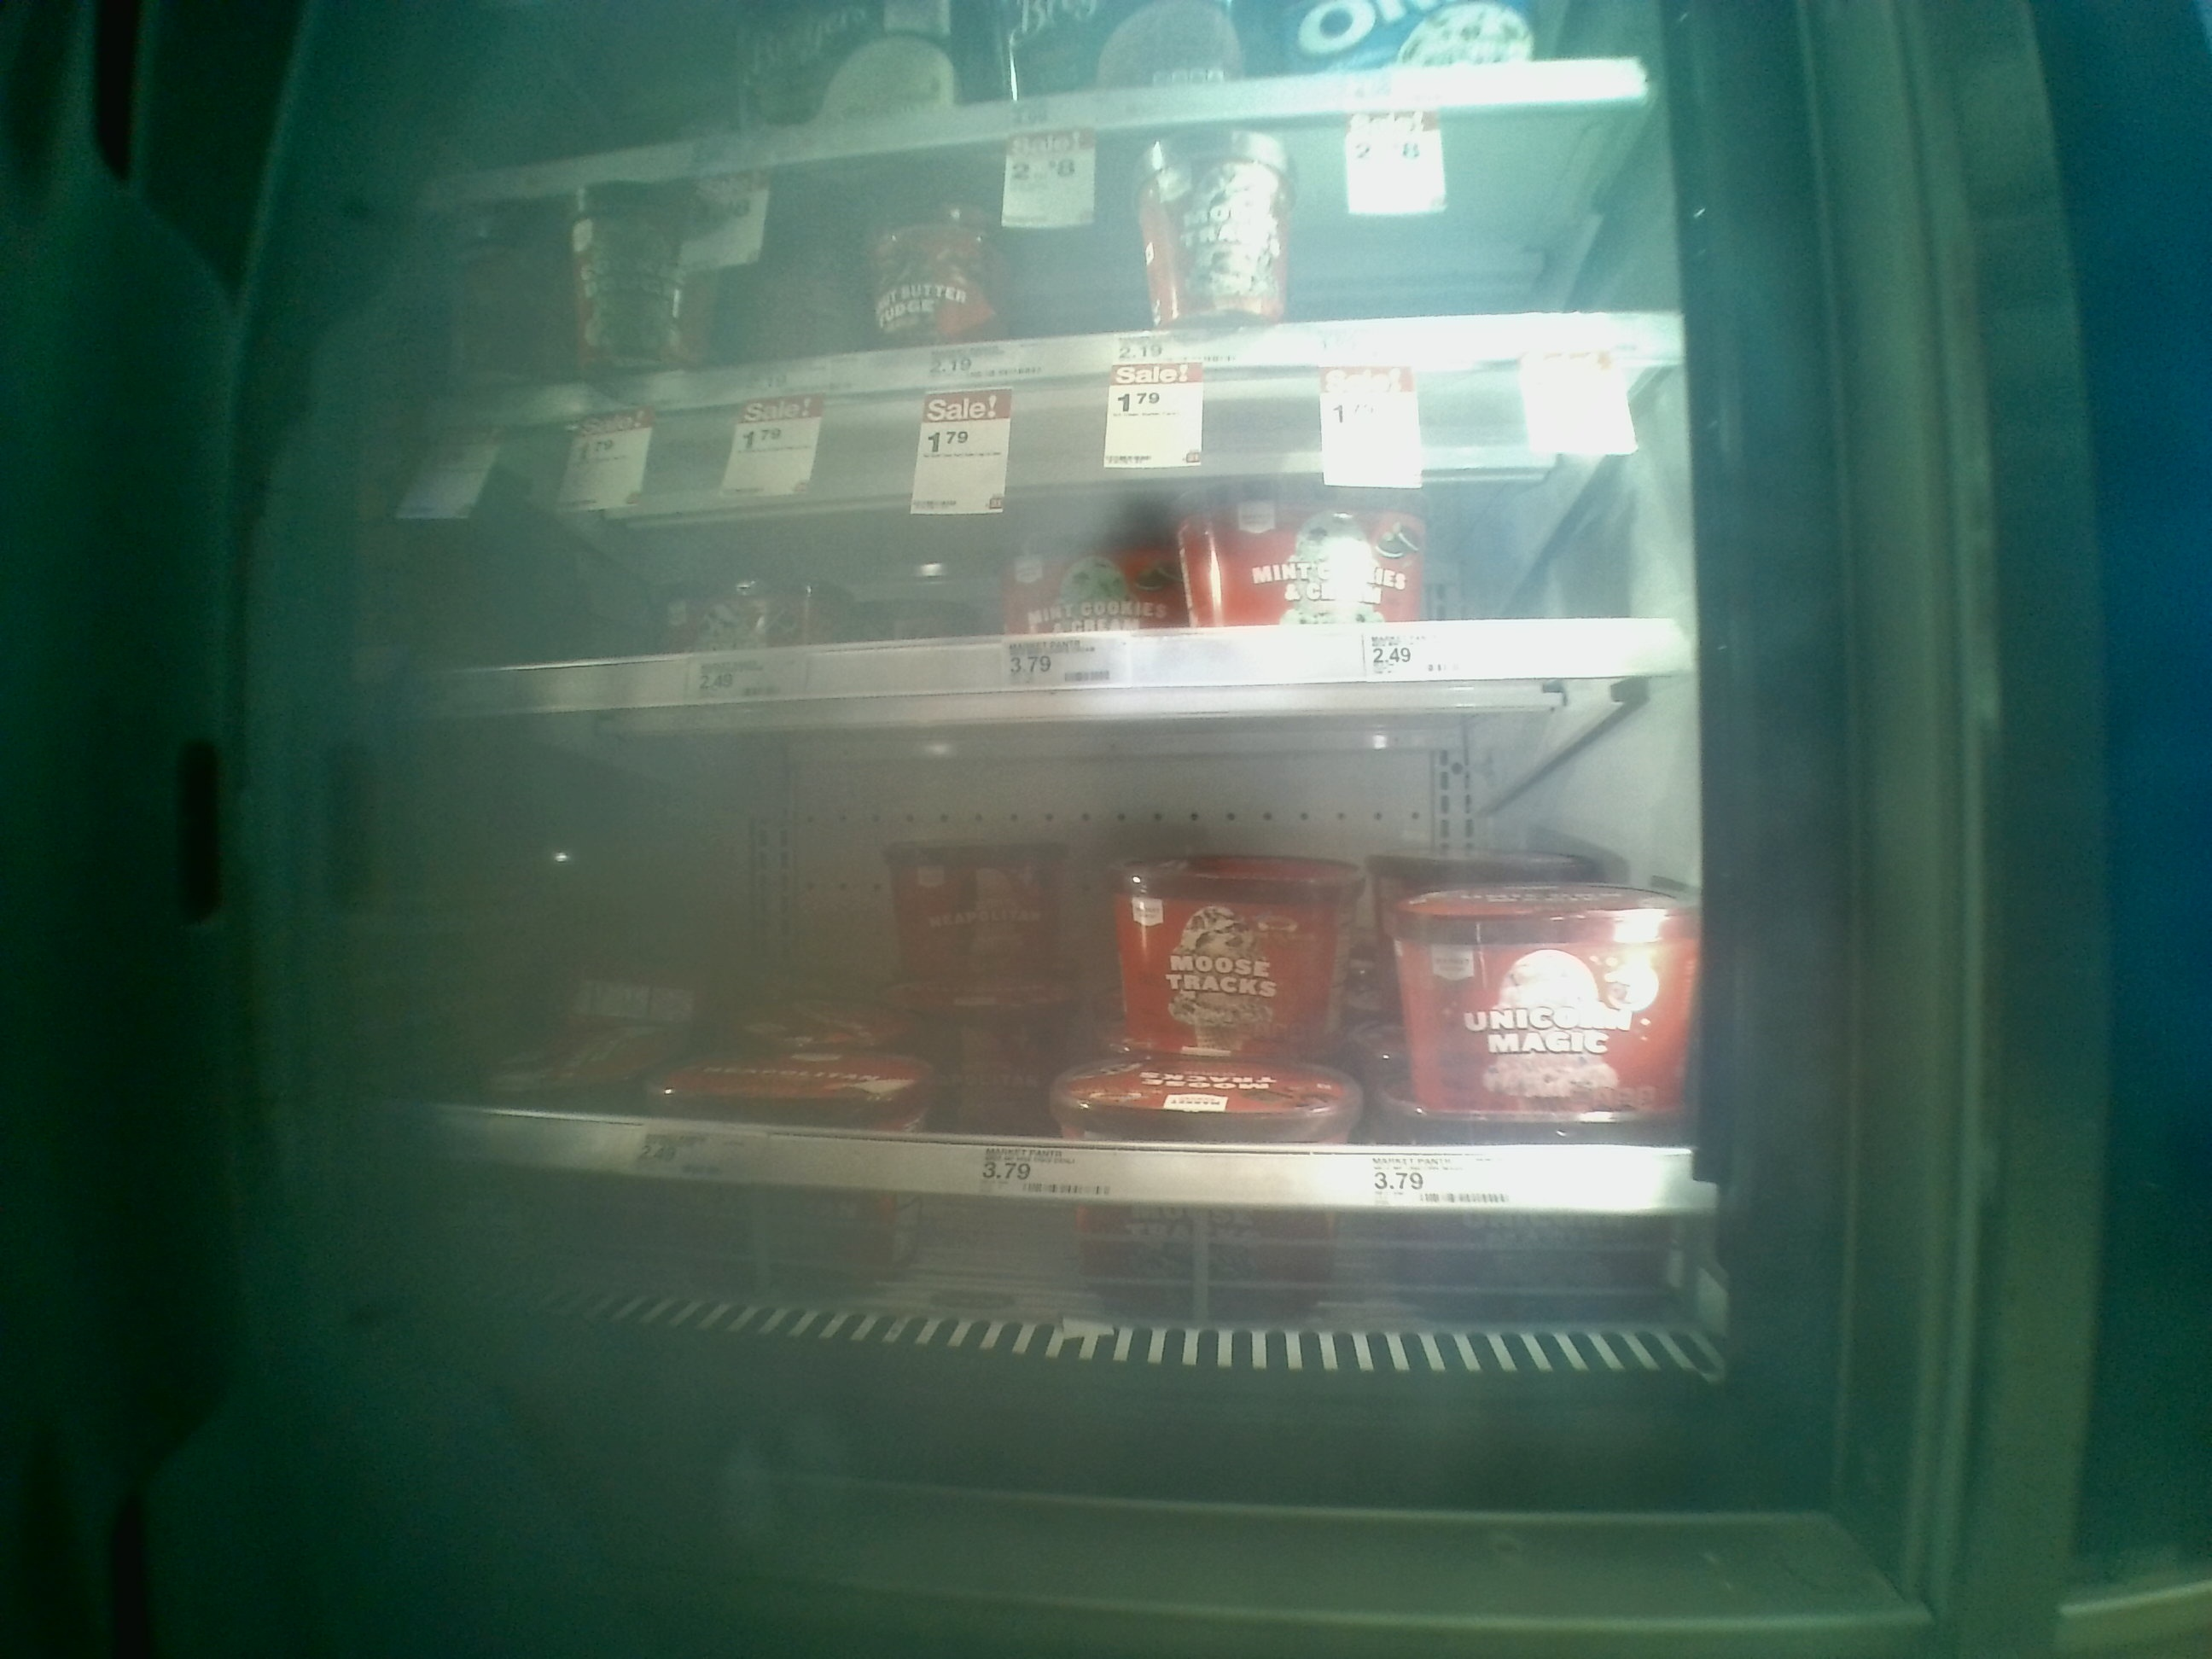shelf: (388, 718, 1702, 1229), (383, 369, 1686, 708)
